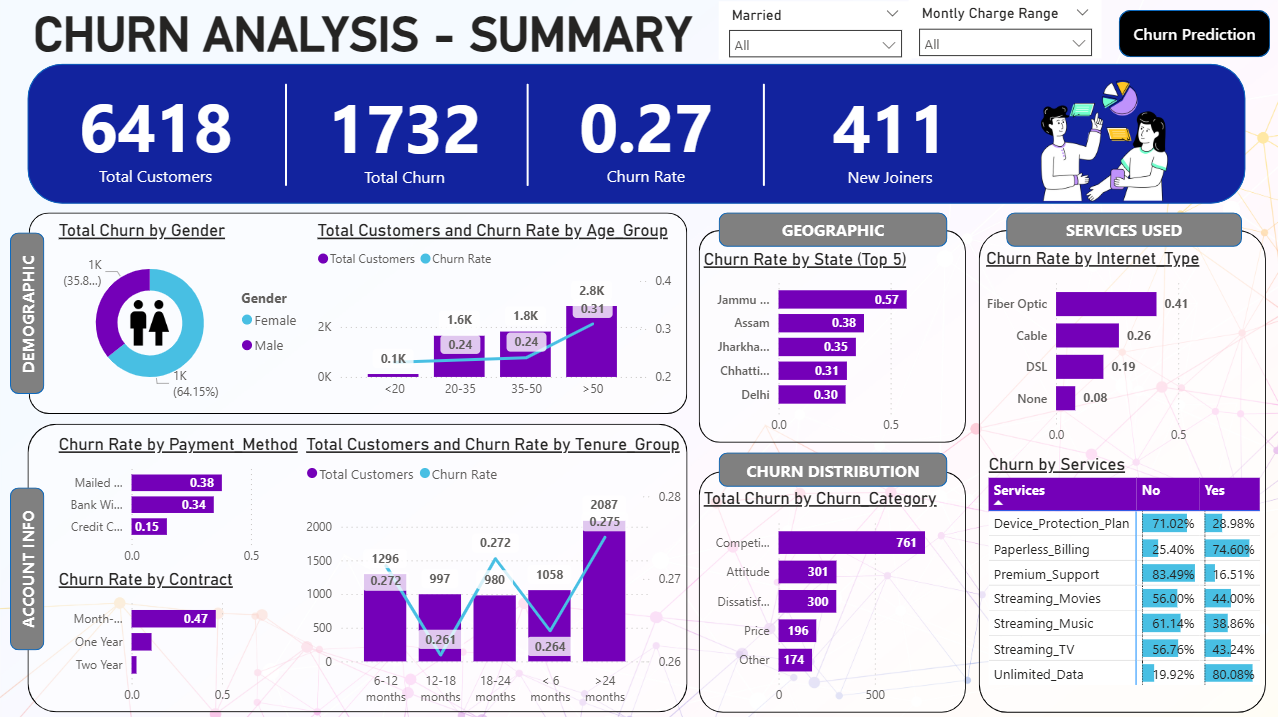

What the dashboard file says about the page in this screenshot:
{"tool":"powerbi","page":{"name":"Churn_Summary","canvas":[1280,720],"ordinal":0},"visuals":[{"type":"shape","box":[28,64,1218,140],"z":0},{"type":"shape","box":[698.6,471.4,267.1,241.4],"z":1000},{"type":"shape","box":[698.6,230,267.1,212.9],"z":2000},{"type":"shape","box":[978.6,230,287.1,482.9],"z":3000},{"type":"shape","box":[27.1,424.3,660,288.6],"z":4000},{"type":"shape","box":[28.6,212.9,658.6,201.4],"z":5000},{"type":"card","fields":{"Values":["tbl_measure.Total Customers"]},"box":[28.8,62.3,254.1,142.6],"z":6000},{"type":"card","fields":{"Values":["tbl_measure.Total Churn"]},"box":[282.8,64.7,244.5,140.2],"z":7000},{"type":"card","fields":{"Values":["tbl_measure.Churn Rate"]},"box":[527.3,62.3,237.3,142.6],"z":8000},{"type":"card","fields":{"Values":["tbl_measure.New Joiners"]},"box":[764.6,64.7,250.5,140.2],"z":9000},{"type":"donutChart","fields":{"Category":["prod_Churn.Gender"],"Y":["tbl_measure.Total Churn"]},"box":[54.3,220,258.6,187.1],"z":10000},{"type":"lineStackedColumnComboChart","fields":{"Category":["mapping_AgeGrp.Age_Group"],"Y":["tbl_measure.Total Customers"],"Y2":["tbl_measure.Churn Rate"]},"box":[312.9,220,364.3,187.1],"z":11000},{"type":"clusteredBarChart","fields":{"Category":["prod_Churn.Payment_Method"],"Y":["tbl_measure.Churn Rate"]},"box":[54.3,434.3,258.6,140],"z":12000},{"type":"clusteredBarChart","fields":{"Category":["prod_Churn.Contract"],"Y":["tbl_measure.Churn Rate"]},"box":[54.3,568.6,258.6,144.3],"z":13000},{"type":"lineStackedColumnComboChart","fields":{"Y":["tbl_measure.Total Customers"],"Y2":["tbl_measure.Churn Rate"],"Category":["mapping_TenureGrp.Tenure_Group"]},"box":[301.4,434.3,385.7,278.6],"z":14000},{"type":"clusteredBarChart","title":"Churn Rate by State (Top 5)","fields":{"Category":["prod_Churn.State"],"Y":["tbl_measure.Churn Rate"]},"box":[698.6,248.6,267.1,194.3],"z":15000},{"type":"clusteredBarChart","fields":{"Y":["tbl_measure.Total Churn"],"Category":["prod_Churn.Churn_Category"]},"box":[698.6,487.1,267.1,225.7],"z":16000},{"type":"clusteredBarChart","fields":{"Y":["tbl_measure.Churn Rate"],"Category":["prod_Churn.Internet_Type"]},"box":[981.1,247.8,284.4,205.6],"z":17000},{"type":"pivotTable","title":"Churn by Services","fields":{"Rows":["prod_services.Services"],"Columns":["prod_services.Status"],"Values":["Sum(prod_services.Churn Status)"]},"box":[983.3,453.3,283.3,260],"z":18000},{"type":"slicer","fields":{"Values":["prod_Churn.Montly Charge Status"]},"box":[908.6,0,192.9,58.6],"z":19000},{"type":"slicer","fields":{"Values":["prod_Churn.Married"]},"box":[718.6,1.4,192.9,58.6],"z":20000},{"type":"textbox","box":[28.6,1.4,690,81.4],"z":21000},{"type":"shape","box":[244.4,83.3,82,102.2],"z":22000},{"type":"shape","box":[488.9,83.3,77.8,102.2],"z":23000},{"type":"shape","box":[725.6,83.3,77.8,102.2],"z":24000},{"type":"shape","box":[718.6,212.9,228.6,34.3],"z":25000},{"type":"shape","box":[1005.7,212.9,235.7,34.3],"z":26000},{"type":"shape","box":[718.6,452.9,228.6,34.3],"z":27000},{"type":"shape","box":[10,232.9,34.3,161.4],"z":28000},{"type":"shape","box":[10,487.1,34.3,162.9],"z":29000},{"type":"image","box":[965.7,62.9,275.7,157.1],"z":30000},{"type":"shape","box":[1118.6,10,151.4,47.1],"z":31000},{"type":"image","box":[124.1,300,52.4,45.9],"z":32000}]}

Visuals, with their boxes in screenshot pixels (x1, y1, x2, y2), scaled from the page's 1280x720 canvas onto the 1278x717 screenshot:
shape: select_region(28, 64, 1244, 203)
shape: select_region(698, 469, 964, 710)
shape: select_region(698, 229, 964, 441)
shape: select_region(977, 229, 1264, 710)
shape: select_region(27, 423, 686, 710)
shape: select_region(29, 212, 686, 413)
card - tbl_measure.Total Customers: select_region(29, 62, 282, 204)
card - tbl_measure.Total Churn: select_region(282, 64, 526, 204)
card - tbl_measure.Churn Rate: select_region(526, 62, 763, 204)
card - tbl_measure.New Joiners: select_region(763, 64, 1014, 204)
donutChart - prod_Churn.Gender x tbl_measure.Total Churn: select_region(54, 219, 312, 405)
lineStackedColumnComboChart - mapping_AgeGrp.Age_Group x tbl_measure.Total Customers: select_region(312, 219, 676, 405)
clusteredBarChart - prod_Churn.Payment_Method x tbl_measure.Churn Rate: select_region(54, 432, 312, 572)
clusteredBarChart - prod_Churn.Contract x tbl_measure.Churn Rate: select_region(54, 566, 312, 710)
lineStackedColumnComboChart - tbl_measure.Total Customers x tbl_measure.Churn Rate: select_region(301, 432, 686, 710)
"Churn Rate by State (Top 5)" clusteredBarChart: select_region(698, 248, 964, 441)
clusteredBarChart - tbl_measure.Total Churn x prod_Churn.Churn_Category: select_region(698, 485, 964, 710)
clusteredBarChart - tbl_measure.Churn Rate x prod_Churn.Internet_Type: select_region(980, 247, 1264, 452)
"Churn by Services" pivotTable: select_region(982, 451, 1265, 710)
slicer - prod_Churn.Montly Charge Status: select_region(907, 0, 1100, 58)
slicer - prod_Churn.Married: select_region(717, 1, 910, 60)
textbox: select_region(29, 1, 717, 82)
shape: select_region(244, 83, 326, 185)
shape: select_region(488, 83, 566, 185)
shape: select_region(724, 83, 802, 185)
shape: select_region(717, 212, 946, 246)
shape: select_region(1004, 212, 1239, 246)
shape: select_region(717, 451, 946, 485)
shape: select_region(10, 232, 44, 393)
shape: select_region(10, 485, 44, 647)
image: select_region(964, 63, 1239, 219)
shape: select_region(1117, 10, 1268, 57)
image: select_region(124, 299, 176, 344)
